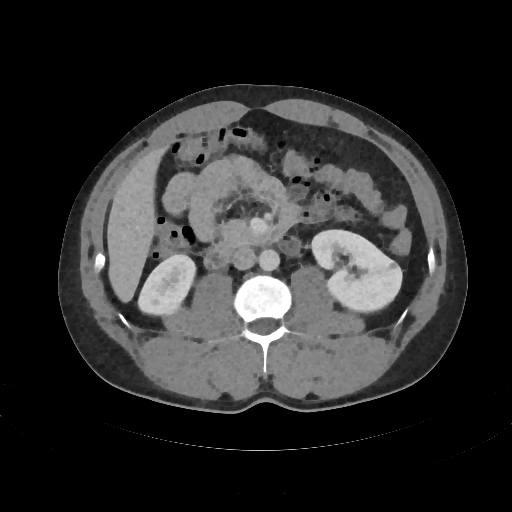Lesion: (385, 256, 400, 277)
